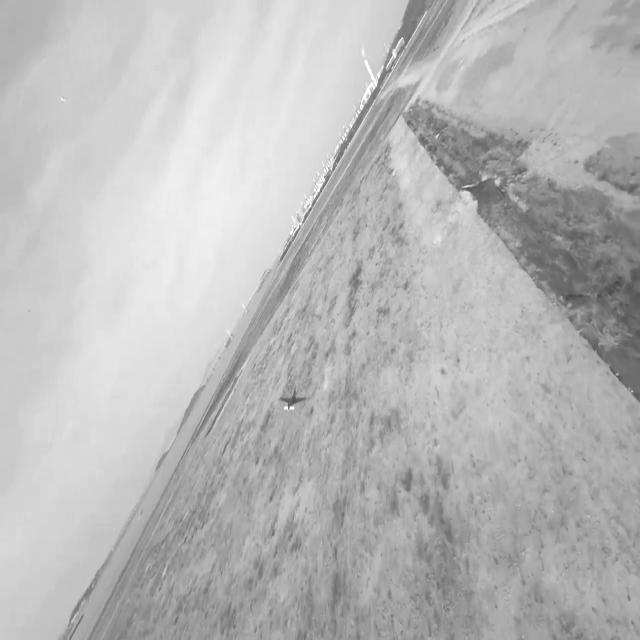iha: (272, 388, 310, 414)
